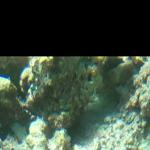dead: (3, 57, 145, 146)
